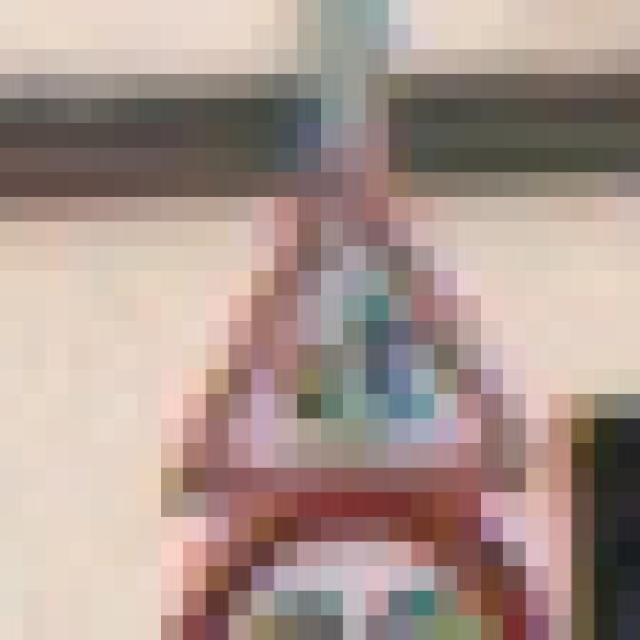Beware of children: (160, 172, 549, 517)
